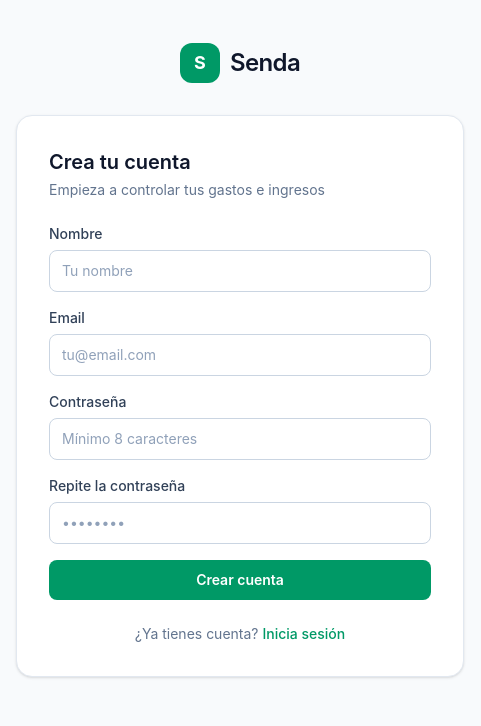
RegisterPage › explains in Spanish that sign-up is closed when the API answers 403
Type "Intruso" into the field labelled "Nombre".
click(240, 271); type("Intruso")  # box [49,250,431,292]
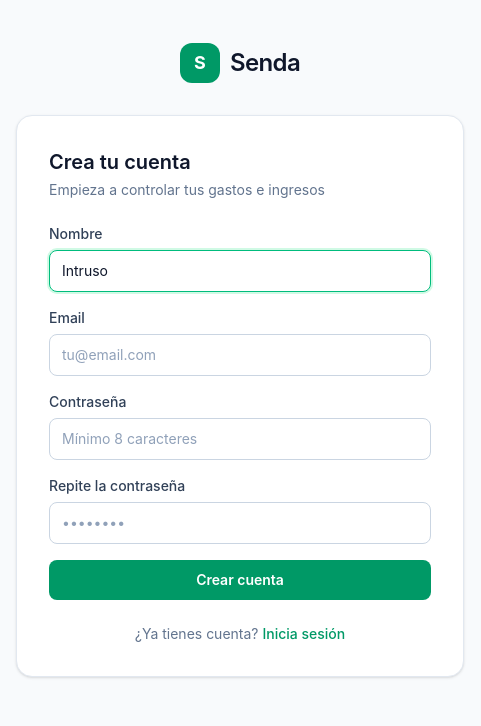
Type "intruso@test.com" into the field labelled "Email".
click(240, 355); type("intruso@test.com")  # box [49,334,431,376]
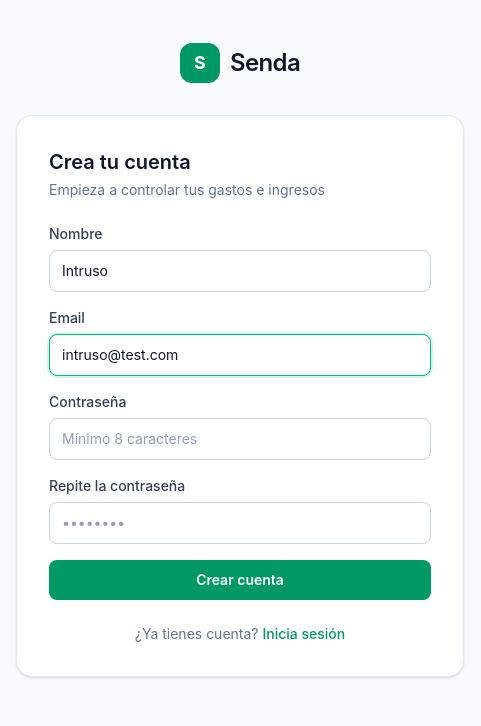
Type "password123" into the password field labelled "Contraseña".
click(240, 439); type("password123")  # box [49,418,431,460]
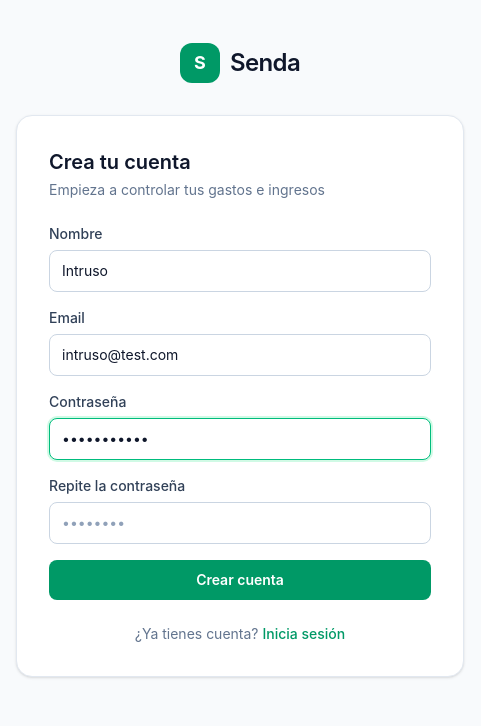
Type "password123" into the password field labelled "Repite la contraseña".
click(240, 523); type("password123")  # box [49,502,431,544]
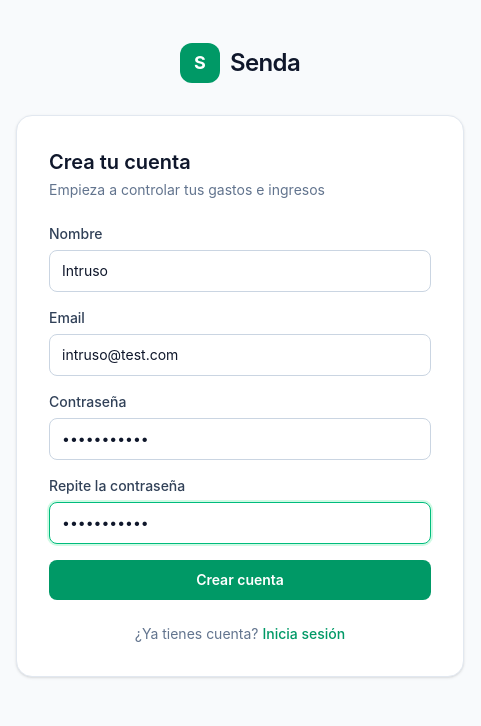
Click the button "Crear cuenta".
click(240, 580)  # box [49,560,431,600]
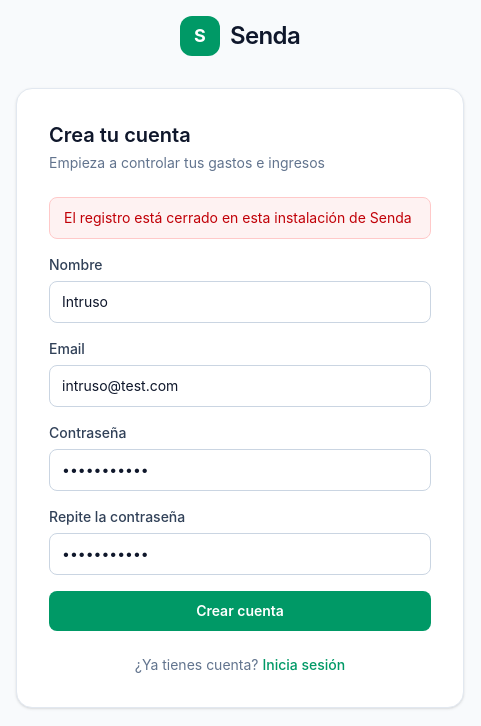
Expected: the message reads "El registro está cerrado en esta instalación de Senda", [64,209,412,226]
